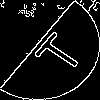T: (25, 25, 88, 77)
